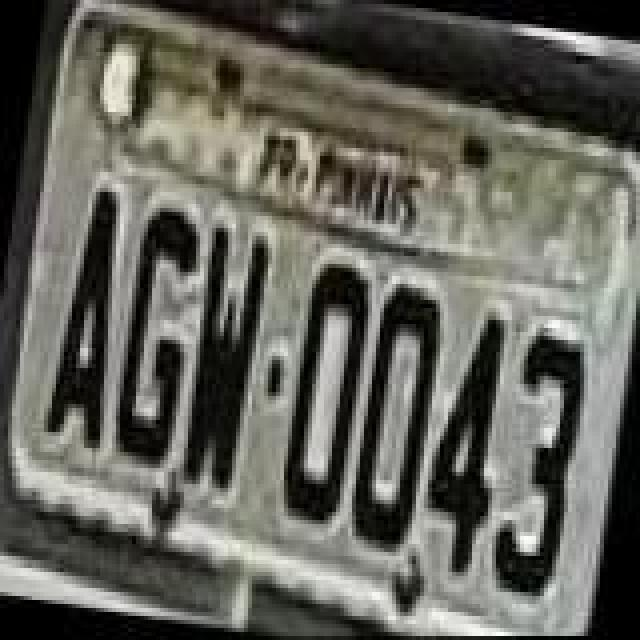3: (482, 324, 598, 604)
4: (412, 308, 524, 584)
A: (36, 182, 140, 458)
G: (102, 200, 210, 472)
O: (340, 276, 452, 560), (272, 254, 384, 534)
W: (172, 220, 276, 496)
